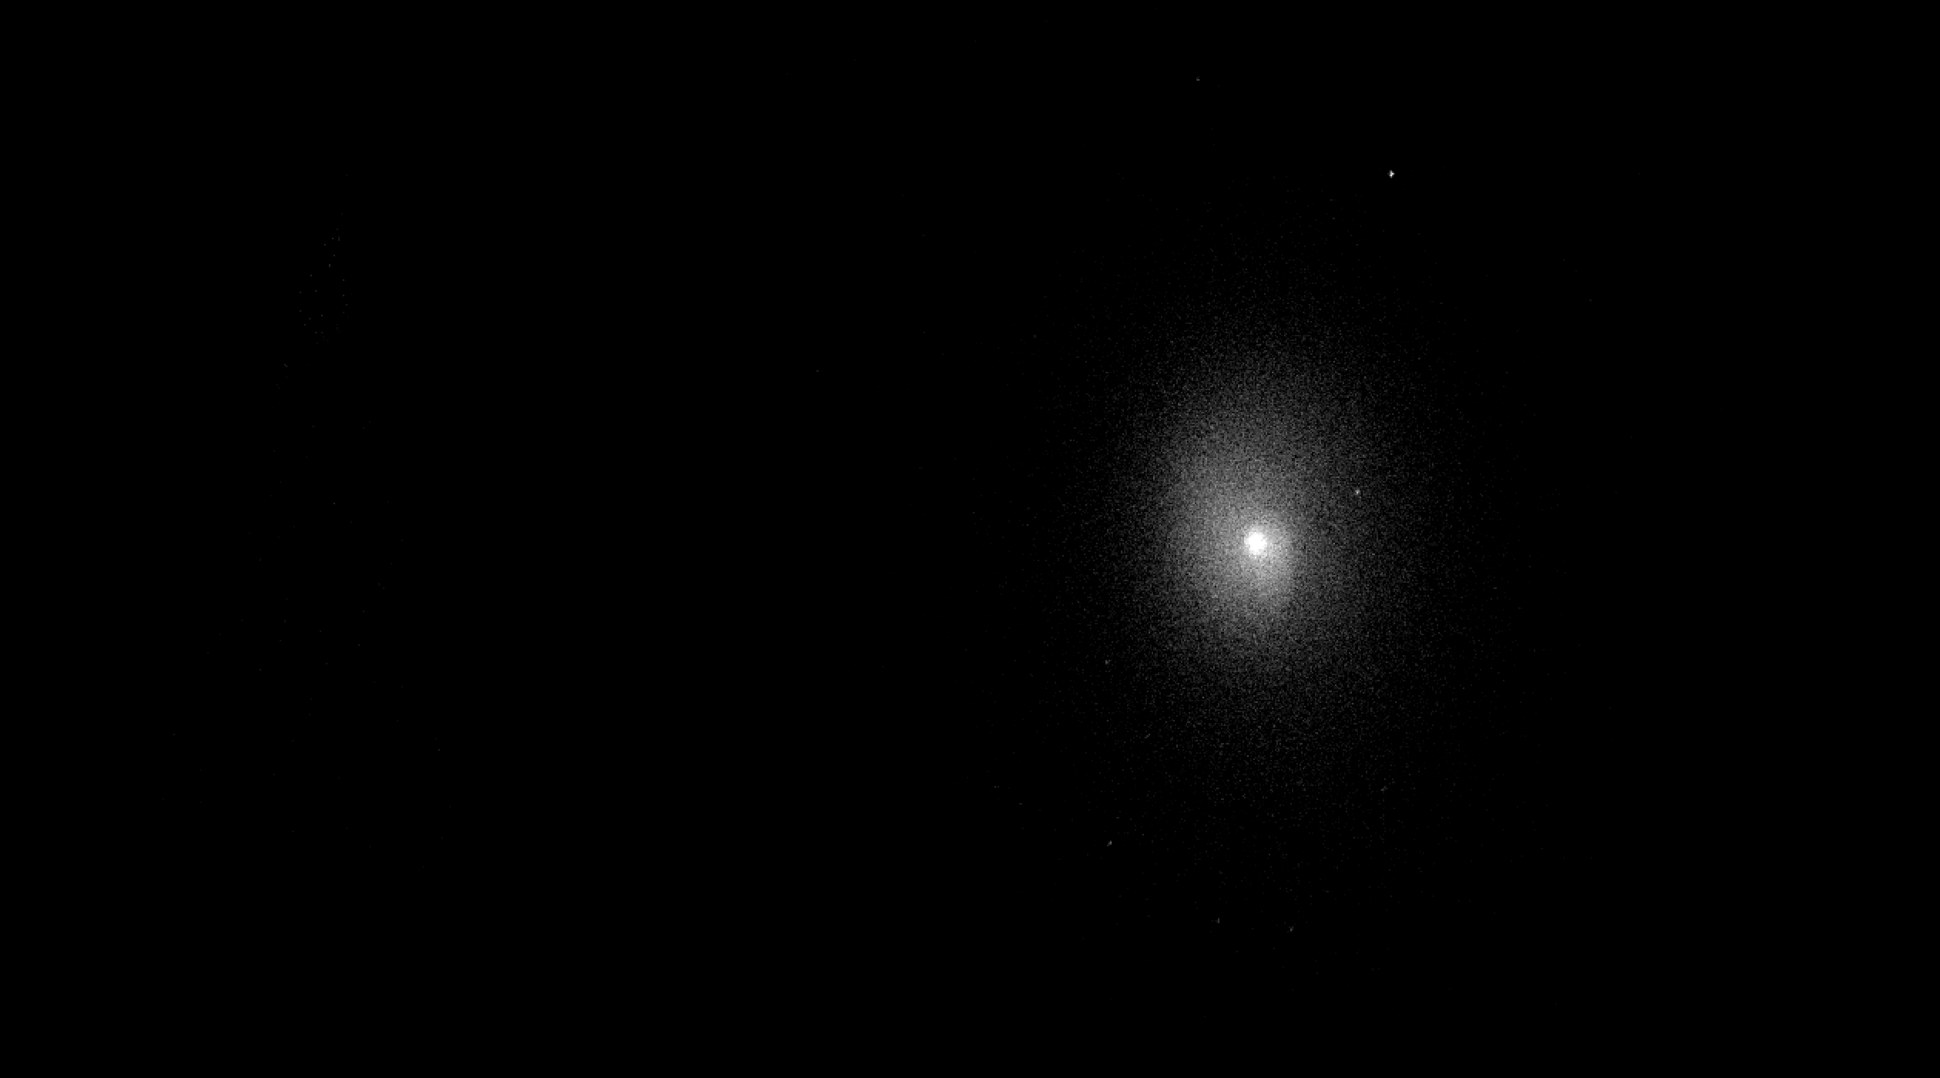Galaxy: (1105, 353, 1395, 696)
